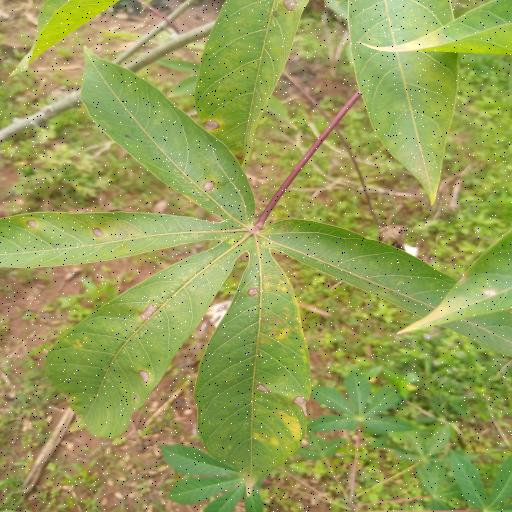Cassava_Brown_Leaf_Spot: (8, 45, 512, 478)
